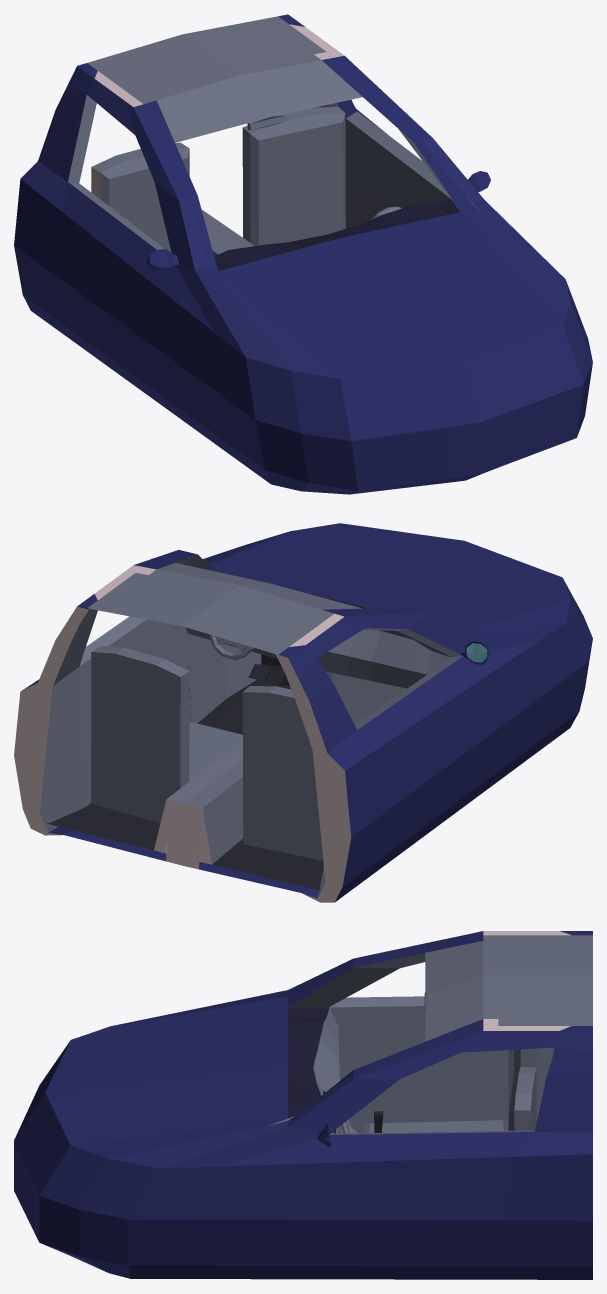
The model's file is inside car.fbx.
3 views of the same model, one above another, from view 1: azimuth 30°, elevation 25°; view 2: azimuth 150°, elevation 25°; view 3: azimuth 270°, elevation 25° (orthographic). The views are drawn at different scales.
Visible parts, largest first — view 1: Cube; view 2: Cube; view 3: Cube.
Boxes of the visible parts, left/top/right/bottom form: Cube: left=14, top=14, right=592, bottom=494; Cube: left=14, top=523, right=592, bottom=902; Cube: left=14, top=931, right=592, bottom=1279.
Size of the model in its own units: 251 by 171 by 380.
